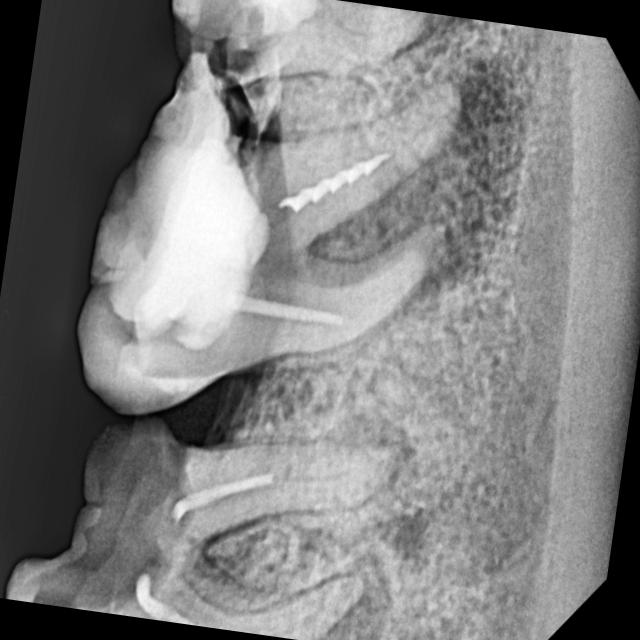Abcess: (324, 31, 553, 323)
Badly Decayed: (0, 419, 422, 640)
Overhang: (75, 38, 285, 365)
RCT: (235, 60, 475, 376)
